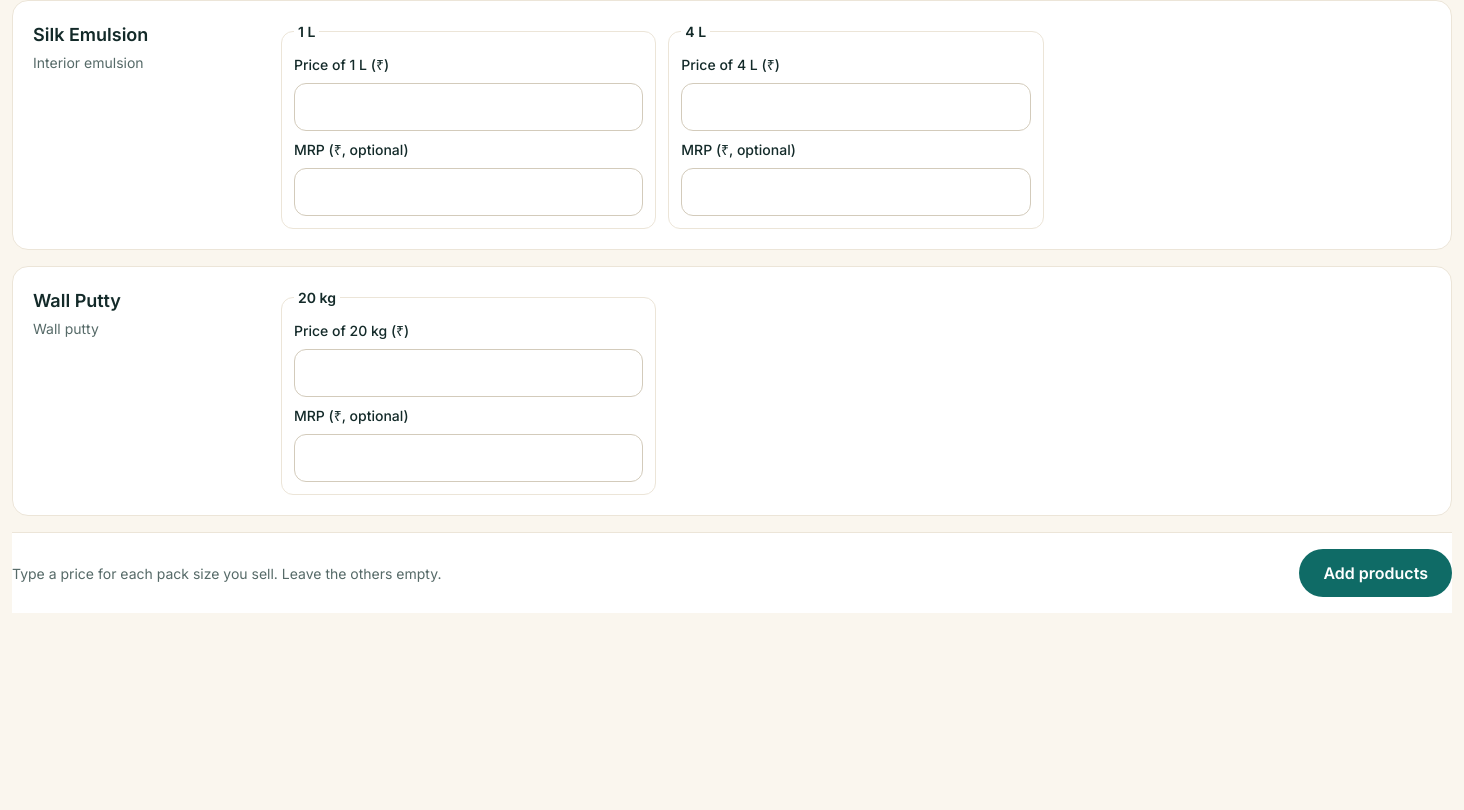
QuickAddForm › counts the products and pack sizes that have a price
The width and height of the screenshot is (1464, 810).
Expected: the text "Type a price for each pack size" is shown, [12, 564, 442, 582]
In the field labelled "Price of 1 L (₹)": (469, 107) [294, 83, 643, 131], type "450"
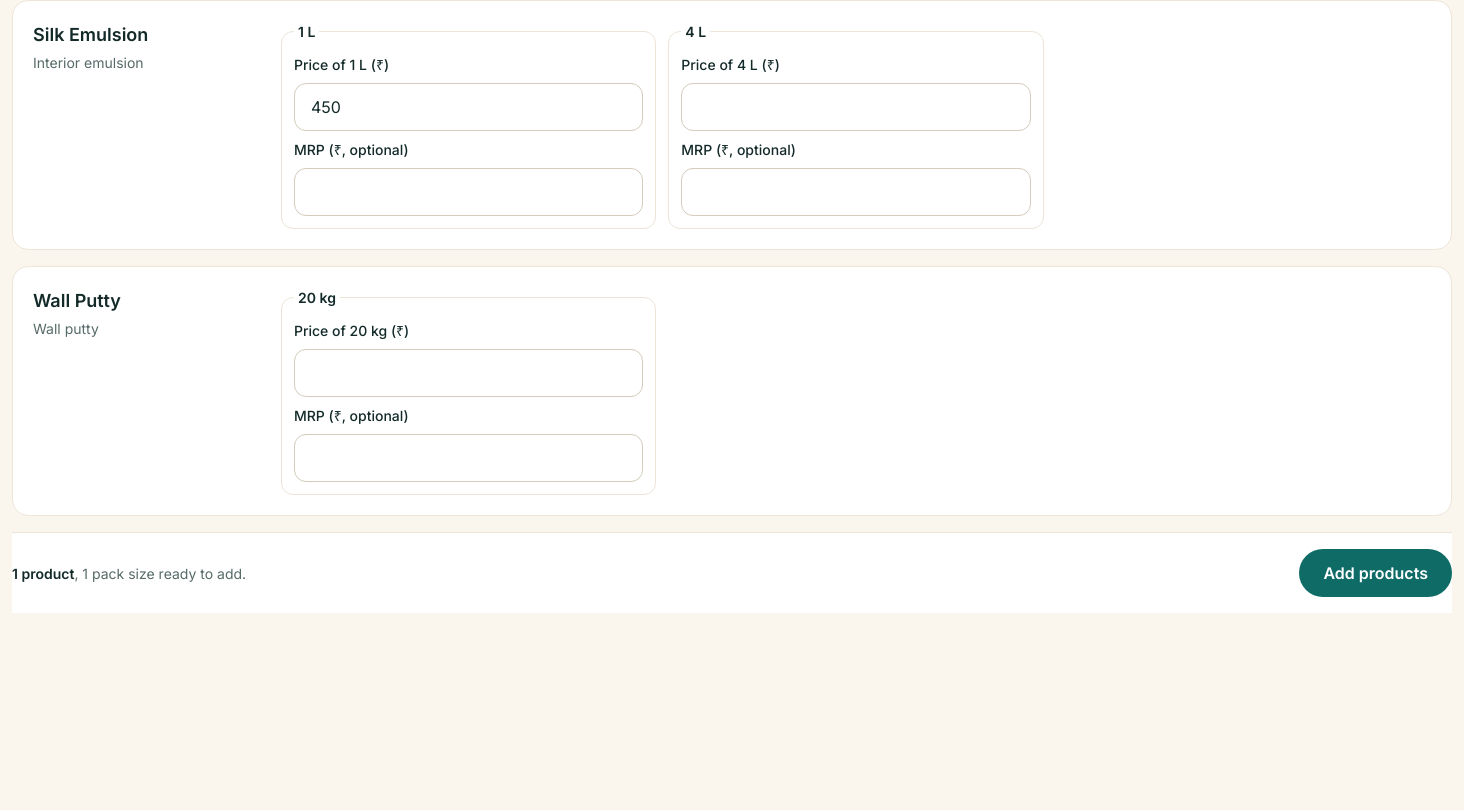
In the field labelled "Price of 4 L (₹)": (856, 107) [681, 83, 1031, 131], type "1450"
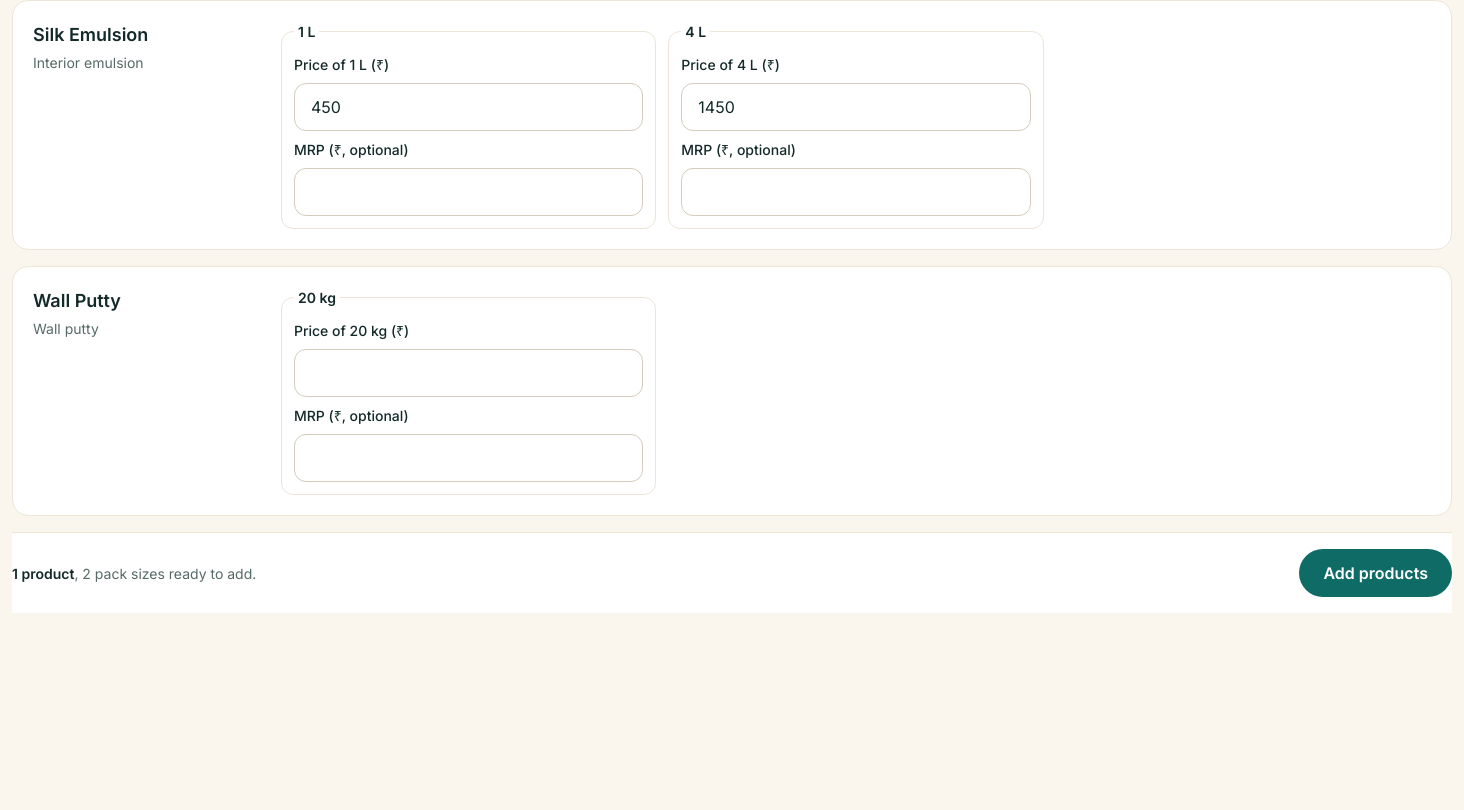
In the field labelled "Price of 20 kg (₹)": (469, 373) [294, 349, 643, 397], type "900"
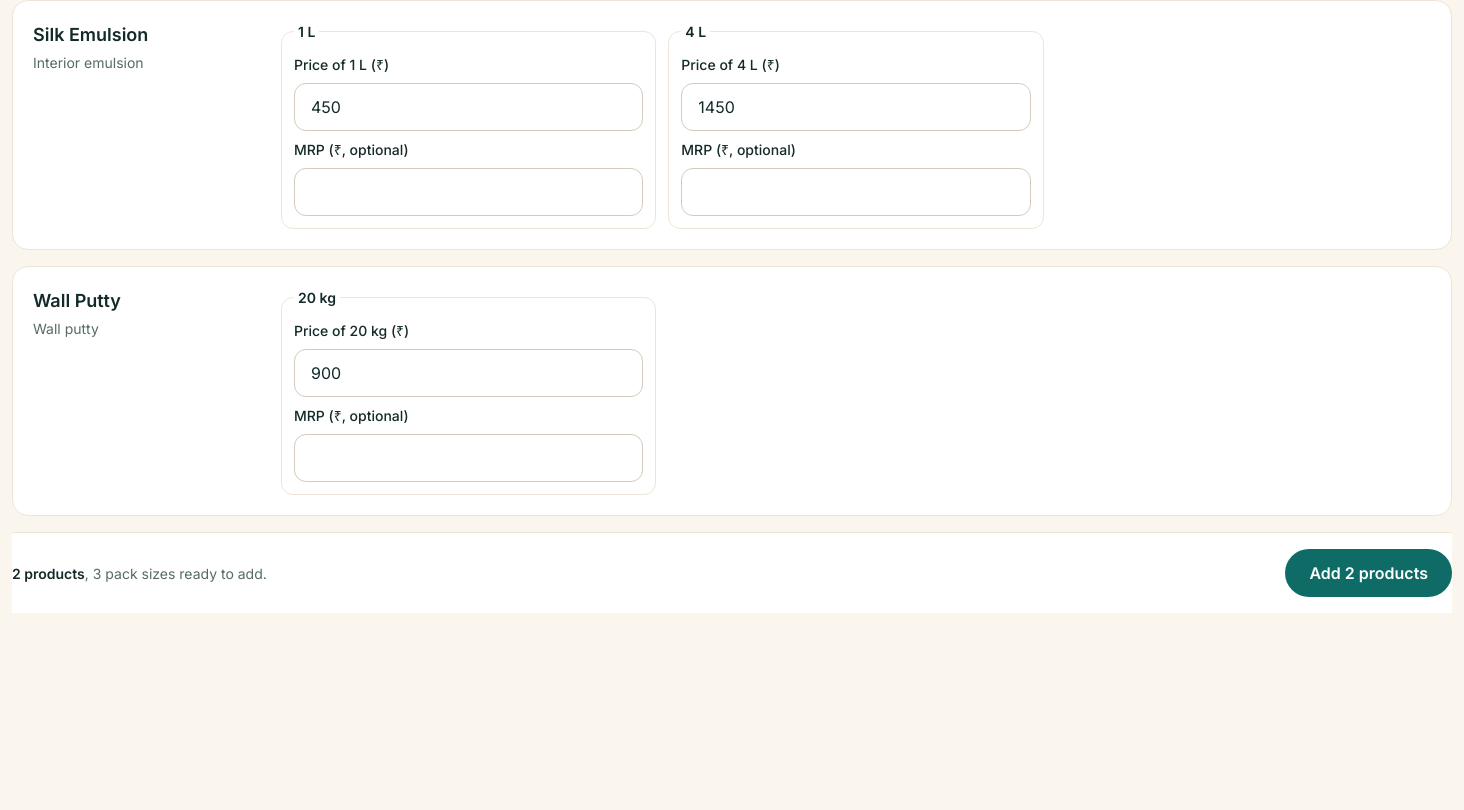
Expected: the text "2 products, 3 pack sizes ready to add." is shown, [12, 562, 267, 584]
Expected: the button "Add 2 products" is shown, [1286, 549, 1452, 597]
